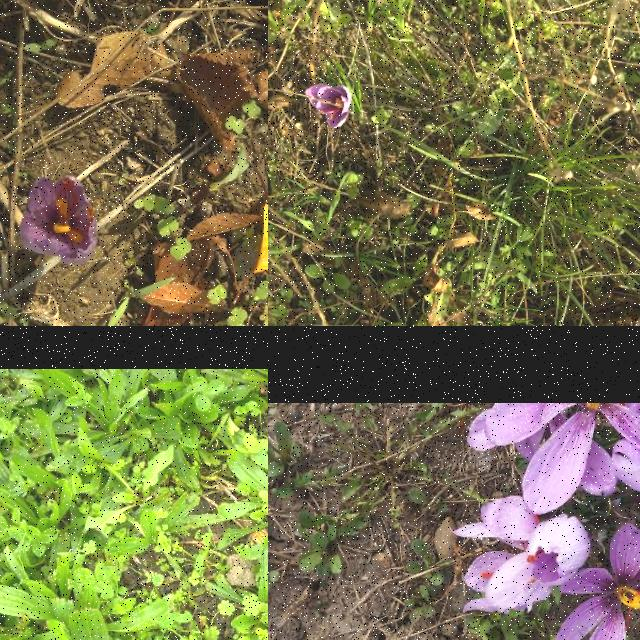flower: (555, 523, 640, 640), (19, 176, 97, 260), (526, 515, 590, 587), (304, 84, 350, 130)
overlap: (451, 403, 640, 640)
